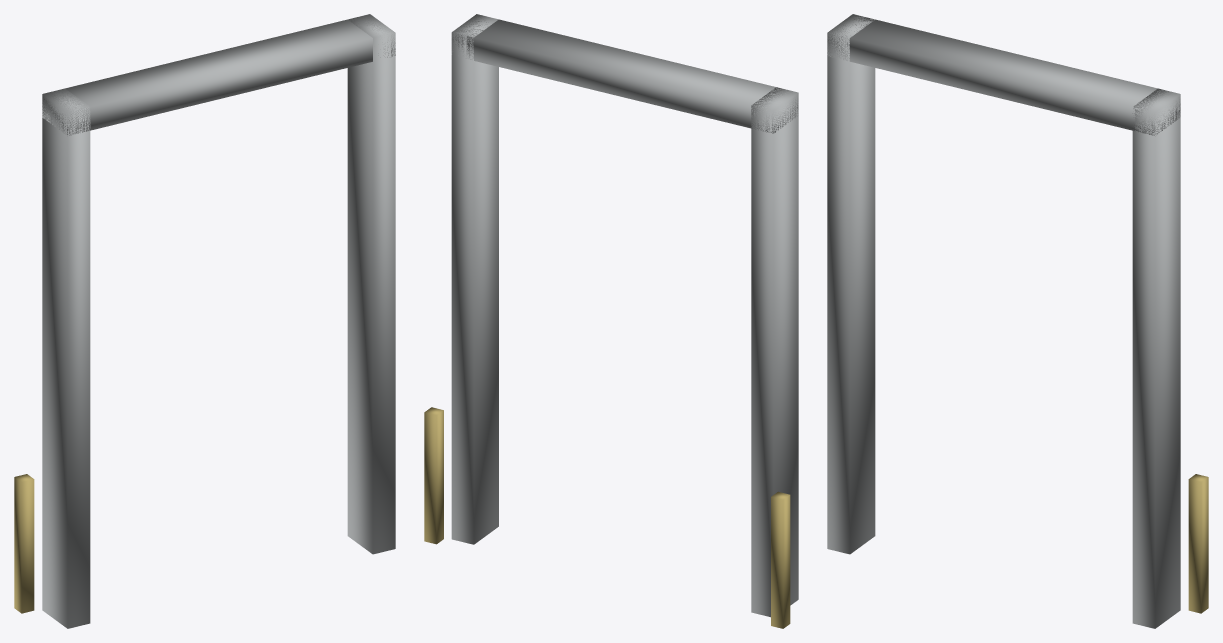
File: stair_shaft_industrial_w180_h300_d28.glb
The picture shows the model from 3 angles, left to right: view 1: azimuth 30°, elevation 25°; view 2: azimuth 150°, elevation 25°; view 3: azimuth 330°, elevation 25°; orthographic projection.
Visible parts, largest first — view 1: world; view 2: world; view 3: world.
Boxes of the visible parts, bbox=[...] form: world: bbox=[14, 14, 395, 628]; world: bbox=[424, 14, 798, 628]; world: bbox=[827, 14, 1208, 628].
Bounding box in the file's own units: 2.33 × 3.14 × 0.38.
